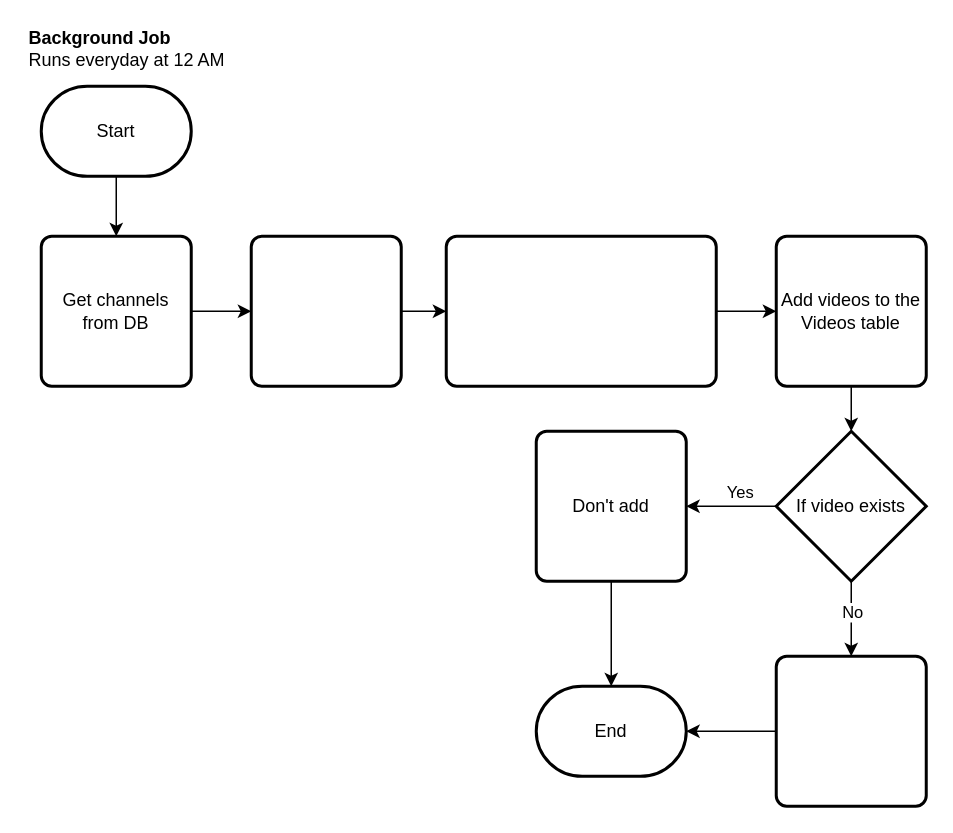
The diagram is 953 pixels wide and 833 high, and some of its shapes have lost their labels. Here are the shapes that lost their labels. From the top down, the centre of each, then its label:
At (325,310): "Loop through each channel".
At (580,310): "Make API call to fetch videos published during last 7 days".
At (850,730): "Add".
